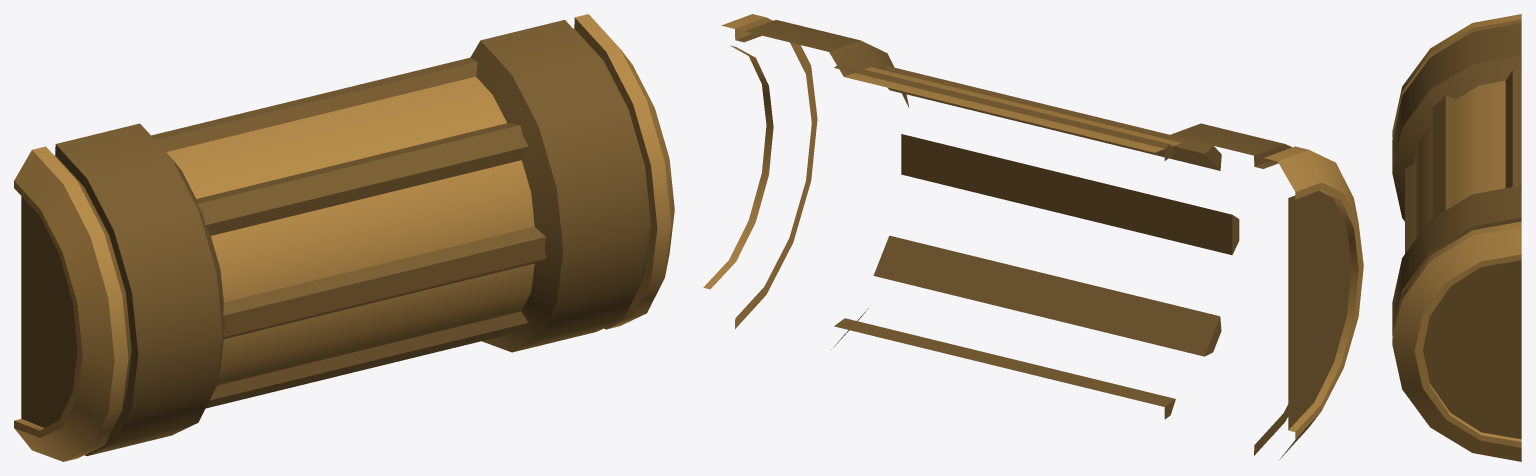
File: Details_Cylinder_Long.glb
3 views of the same model, side by side, from view 1: azimuth 30°, elevation 25°; view 2: azimuth 150°, elevation 25°; view 3: azimuth 270°, elevation 25° (orthographic). The views are drawn at different scales.
Parts seen in each view (by area): view 1: Details_Cylinder_Long; view 2: Details_Cylinder_Long; view 3: Details_Cylinder_Long.
Boxes of the visible parts, x1,y1,x2,y2 form: Details_Cylinder_Long: (14,14,674,461); Details_Cylinder_Long: (703,14,1363,459); Details_Cylinder_Long: (1392,14,1521,461).
Size of the model in its own units: 0.7893 by 0.3827 by 0.1909.
